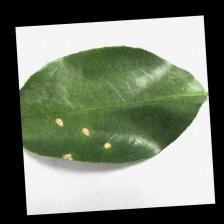canker: (49, 116, 124, 174)
